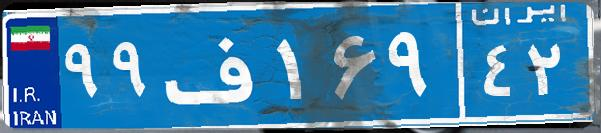1: (273, 28, 330, 110)
2: (525, 38, 570, 115)
4: (475, 38, 525, 113)
6: (330, 28, 385, 110)
9: (385, 28, 445, 110), (57, 26, 110, 107), (110, 28, 158, 105)
ف: (158, 15, 273, 115)
